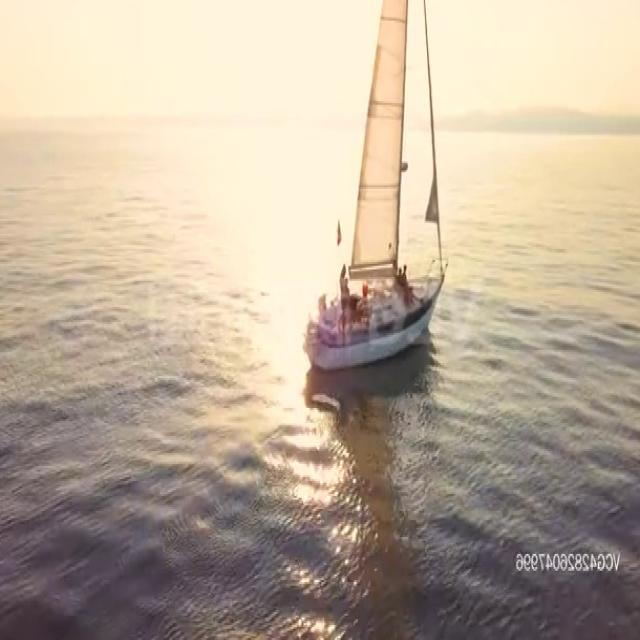sailboat: (302, 0, 452, 365)
